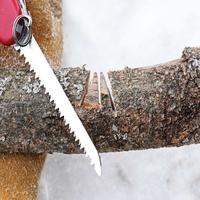knife: (2, 3, 105, 182)
